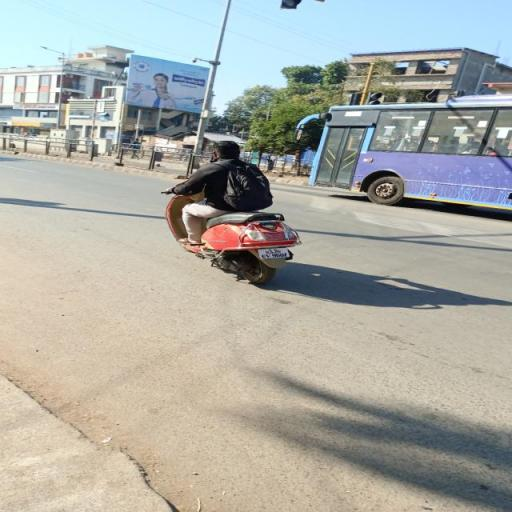bike: (156, 138, 307, 286)
numberplate: (258, 244, 294, 262)
withouthelmet: (211, 140, 240, 160)
